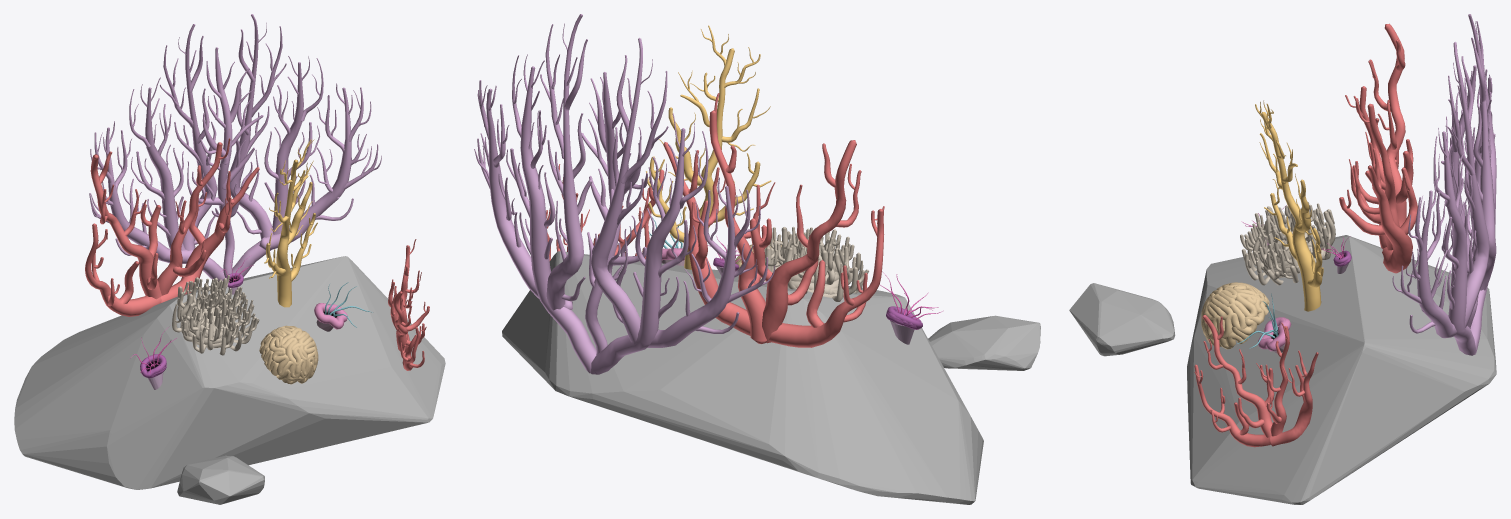
File: corals_by_rayaa.glb
3 views of the same model, side by side, from view 1: azimuth 30°, elevation 25°; view 2: azimuth 150°, elevation 25°; view 3: azimuth 270°, elevation 25° (orthographic). The views are drawn at different scales.
Visible parts, largest first — view 1: brush_MatteHull_g0_b0_0, brush_Icing_g6_b0_19, brush_Icing_g1_b0_7, brush_Icing_g4_b0_13, brush_Icing_g0_b0_4, brush_Icing_g2_b0_9, brush_Icing_g3_b0_11, brush_Icing_g5_b0_16; view 2: brush_MatteHull_g0_b0_0, brush_Icing_g6_b0_19, brush_Icing_g1_b0_7, brush_Icing_g2_b0_9, brush_Icing_g4_b0_13, brush_Icing_g3_b0_11, brush_Icing_g5_b0_16; view 3: brush_MatteHull_g0_b0_0, brush_Icing_g6_b0_19, brush_Icing_g1_b0_7, brush_Icing_g3_b0_11, brush_Icing_g2_b0_9, brush_Icing_g4_b0_13, brush_Icing_g0_b0_4.
Boxes of the visible parts, <box> form: brush_MatteHull_g0_b0_0: <box>14,256,445,504</box>; brush_Icing_g6_b0_19: <box>89,14,381,281</box>; brush_Icing_g1_b0_7: <box>85,138,259,316</box>; brush_Icing_g4_b0_13: <box>172,275,259,355</box>; brush_Icing_g0_b0_4: <box>259,282,372,384</box>; brush_Icing_g2_b0_9: <box>264,139,317,307</box>; brush_Icing_g3_b0_11: <box>388,239,429,370</box>; brush_Icing_g5_b0_16: <box>130,327,176,378</box>; brush_MatteHull_g0_b0_0: <box>502,251,1040,504</box>; brush_Icing_g6_b0_19: <box>474,14,775,374</box>; brush_Icing_g1_b0_7: <box>663,93,884,347</box>; brush_Icing_g2_b0_9: <box>646,25,771,269</box>; brush_Icing_g4_b0_13: <box>760,226,868,301</box>; brush_Icing_g3_b0_11: <box>546,164,664,260</box>; brush_Icing_g5_b0_16: <box>880,271,943,329</box>; brush_MatteHull_g0_b0_0: <box>1069,235,1496,504</box>; brush_Icing_g6_b0_19: <box>1392,14,1496,355</box>; brush_Icing_g1_b0_7: <box>1339,23,1417,273</box>; brush_Icing_g3_b0_11: <box>1194,315,1318,447</box>; brush_Icing_g2_b0_9: <box>1255,100,1323,311</box>; brush_Icing_g4_b0_13: <box>1240,202,1335,285</box>; brush_Icing_g0_b0_4: <box>1201,282,1291,351</box>.
Size of the model in its own units: 0.8296 by 0.707 by 0.6559.
